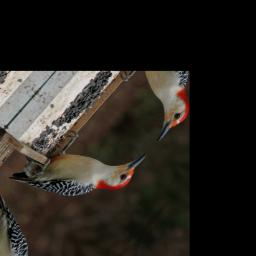Woodpecker: (5, 97, 151, 237)
